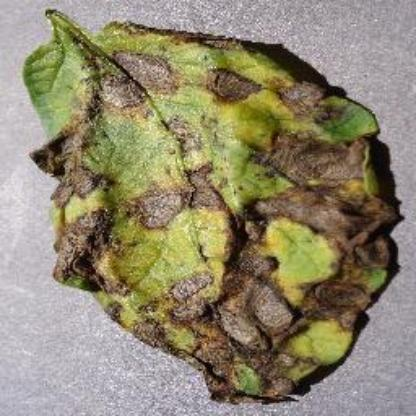Early-Blight: (26, 8, 404, 404)
